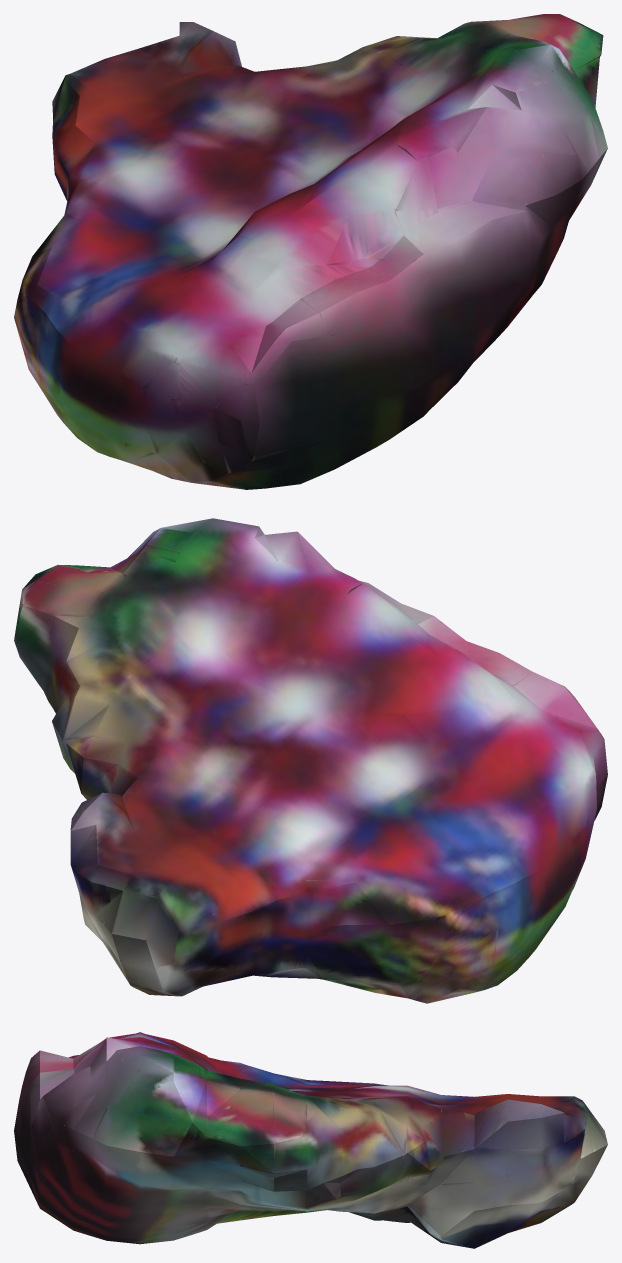
The model's file is untitled-findme.obj.
The picture shows the model from 3 angles, top to bottom: view 1: azimuth 30°, elevation 25°; view 2: azimuth 150°, elevation 25°; view 3: azimuth 270°, elevation 25°; orthographic projection. The views are drawn at different scales.
Visible parts, largest first — view 1: findme; view 2: findme; view 3: findme.
Part boxes in pixels (box(x1,y1,x2,y2)): findme: box(14, 14, 607, 489); findme: box(14, 518, 607, 1003); findme: box(14, 1032, 607, 1248).
Size of the model in its own units: 9.6 by 6.07 by 11.01.
